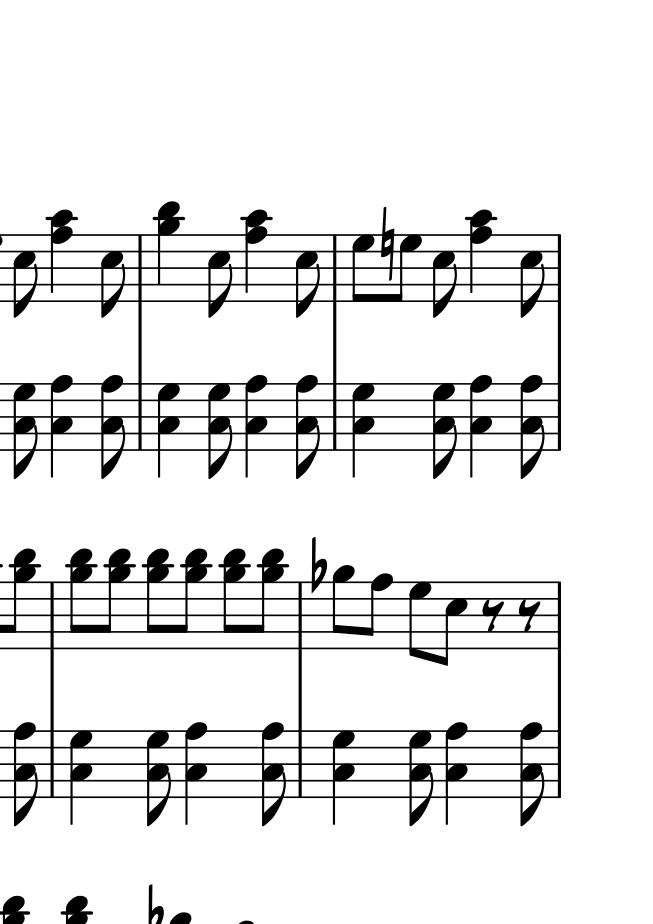4_3_7: (156, 382, 180, 479), (351, 383, 375, 480), (69, 729, 93, 826), (331, 728, 355, 825)
4_3_8: (49, 375, 72, 480), (244, 374, 267, 479), (468, 375, 491, 480), (185, 720, 208, 825), (444, 722, 467, 827)
4_8_10: (45, 210, 77, 303), (241, 210, 273, 303), (464, 209, 496, 302)
4_9_11: (153, 200, 185, 304)
8_3_7: (12, 382, 40, 482), (206, 383, 234, 483), (430, 383, 458, 483), (144, 728, 172, 828), (406, 728, 434, 828)
8_3_8: (99, 375, 126, 480), (293, 374, 320, 479), (518, 375, 545, 480), (12, 721, 39, 826), (259, 721, 286, 826), (517, 722, 544, 827)
8_5: (437, 580, 468, 669), (293, 233, 320, 320), (430, 233, 457, 320), (98, 232, 124, 320), (206, 232, 232, 320), (11, 232, 37, 318), (518, 232, 543, 318)
8_7: (392, 233, 421, 303), (407, 581, 431, 660), (351, 234, 374, 304)
8_8: (361, 572, 393, 651)
8_9: (331, 565, 355, 652)
8_9_11: (4, 549, 39, 651), (100, 548, 135, 650), (177, 548, 212, 650), (254, 547, 289, 649), (221, 548, 250, 652), (143, 547, 172, 651), (67, 548, 96, 652)
Flat: (308, 534, 327, 595), (145, 882, 164, 924)
Natural: (378, 206, 396, 282)
Rests8: (480, 598, 506, 633), (516, 598, 541, 632)
Single_barline: (132, 233, 151, 302), (132, 383, 150, 450), (326, 235, 344, 302), (43, 730, 60, 796), (327, 381, 343, 448), (550, 234, 566, 301), (292, 729, 309, 791), (552, 582, 567, 650), (44, 582, 59, 649), (552, 731, 567, 798), (552, 384, 567, 450), (293, 593, 308, 650)
